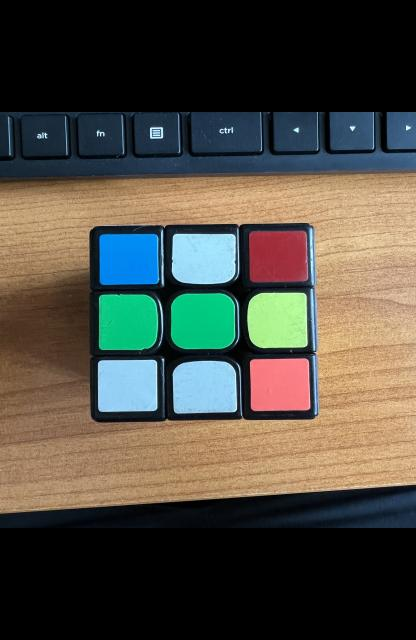Blue: (98, 234, 158, 285)
Green: (169, 293, 234, 349), (98, 294, 157, 350)
Orange: (249, 358, 309, 411)
Red: (248, 231, 307, 282)
White: (172, 361, 237, 414), (170, 233, 236, 284), (97, 360, 157, 412)
Yellow: (245, 293, 307, 348)
